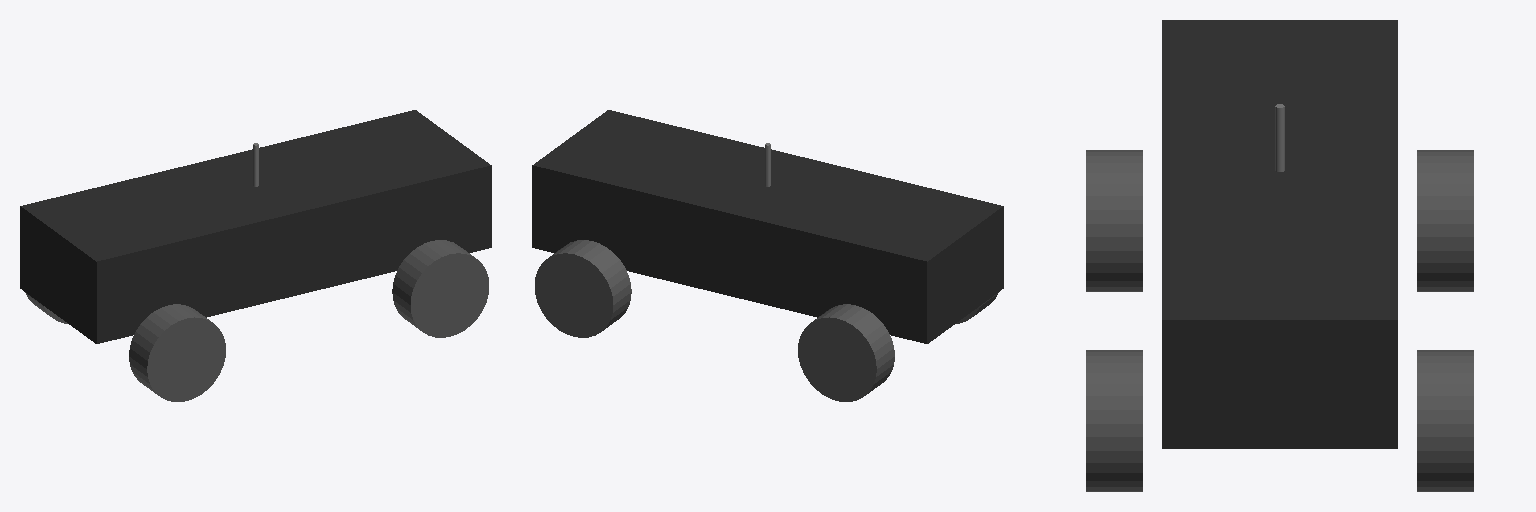
The robot description file, URDF, robot "Pulsar Rover":
<?xml version="1.0"?>
<robot name="Pulsar Rover">

  <material name="chassis">
    <color rgba="0.23 0.23 0.23 1"/>
  </material>
  <material name="wheel">
    <color rgba="0.4 0.4 0.4 1"/>
  </material>
  <material name="antenna">
    <color rgba="0.5 0.5 0.5 1"/>
  </material>

  <link name="base_link">
    <visual>
      <origin xyz="0 0 0" rpy="0 0 0"/>
      <geometry>
        <box size="1.5 0.5 0.3"/>
      </geometry>
      <material name="chassis"/>
    </visual>
  </link>

  <link name="left_front_wheel">
    <visual>
      <origin xyz="0 0 0" rpy="1.5708 0 0"/>
      <geometry>
        <cylinder radius="0.15" length="0.12"/>
      </geometry>
      <material name="wheel"/>
    </visual>
  </link>

  <link name="right_front_wheel">
    <visual>
      <origin xyz="0 0 0" rpy="1.5708 0 0"/>
      <geometry>
        <cylinder radius="0.15" length="0.12"/>
      </geometry>
      <material name="wheel"/>
    </visual>
  </link>

  <link name="left_back_wheel">
    <visual>
      <origin xyz="0 0 0" rpy="1.5708 0 0"/>
      <geometry>
        <cylinder radius="0.15" length="0.12"/>
      </geometry>
      <material name="wheel"/>
    </visual>
  </link>

  <link name="right_back_wheel">
    <visual>
      <origin xyz="0 0 0" rpy="1.5708 0 0"/>
      <geometry>
        <cylinder radius="0.15" length="0.12"/>
      </geometry>
      <material name="wheel"/>
    </visual>
  </link>

  <link name="antenna">
    <visual>
      <origin xyz="0 0 0" rpy="0 0 0"/>
      <geometry>
        <cylinder radius="0.01" length="0.3"/>
      </geometry>
      <material name="antenna"/>
    </visual>
  </link>

  <joint name="base_to_left_front" type="fixed">
    <parent link="base_link"/>
    <child link="left_front_wheel"/>
    <origin xyz="0.5 -0.35 -0.2" rpy="0 0 0"/>
  </joint>

  <joint name="base_to_right_front" type="fixed">
    <parent link="base_link"/>
    <child link="right_front_wheel"/>
    <origin xyz="0.5 0.35 -0.2" rpy="0 0 0"/>
  </joint>

  <joint name="base_to_left_back" type="fixed">
    <parent link="base_link"/>
    <child link="left_back_wheel"/>
    <origin xyz="-0.5 -0.35 -0.2" rpy="0 0 0"/>
  </joint>

  <joint name="base_to_right_back" type="fixed">
    <parent link="base_link"/>
    <child link="right_back_wheel"/>
    <origin xyz="-0.5 0.35 -0.2" rpy="0 0 0"/>
  </joint>

  <joint name="base_to_antenna" type="fixed">
    <parent link="base_link"/>
    <child link="antenna"/>
    <origin xyz="0 0 0.15" rpy="0 0 0"/>
  </joint>

</robot>

--- Render facts (derived) ---
Views: 3 orthographic renders of the robot side by side, from view 1: azimuth 30°, elevation 25°; view 2: azimuth 150°, elevation 25°; view 3: azimuth 270°, elevation 25°.
Robot: Pulsar Rover — 6 links, 5 joints (5 fixed); root link base_link; default pose: all joints at 0.
Visible links, largest first — view 1: base_link, left_front_wheel, left_back_wheel; view 2: base_link, right_front_wheel, right_back_wheel; view 3: base_link, left_front_wheel, right_front_wheel, left_back_wheel, right_back_wheel, antenna.
Boxes of the visible links, left/top/right/bottom form: base_link: left=20, top=110, right=491, bottom=343; left_front_wheel: left=392, top=240, right=488, bottom=337; left_back_wheel: left=129, top=304, right=225, bottom=401; base_link: left=532, top=110, right=1003, bottom=343; right_front_wheel: left=535, top=240, right=631, bottom=337; right_back_wheel: left=798, top=304, right=894, bottom=401; base_link: left=1162, top=20, right=1397, bottom=448; left_front_wheel: left=1086, top=350, right=1142, bottom=491; right_front_wheel: left=1417, top=350, right=1473, bottom=491; left_back_wheel: left=1086, top=150, right=1142, bottom=291; right_back_wheel: left=1417, top=150, right=1473, bottom=291; antenna: left=1275, top=104, right=1284, bottom=171.
Size in the robot's own frame: 1.5 by 0.82 by 0.65 metres.
Geometry: primitives only (box / cylinder / sphere), no mesh files.
